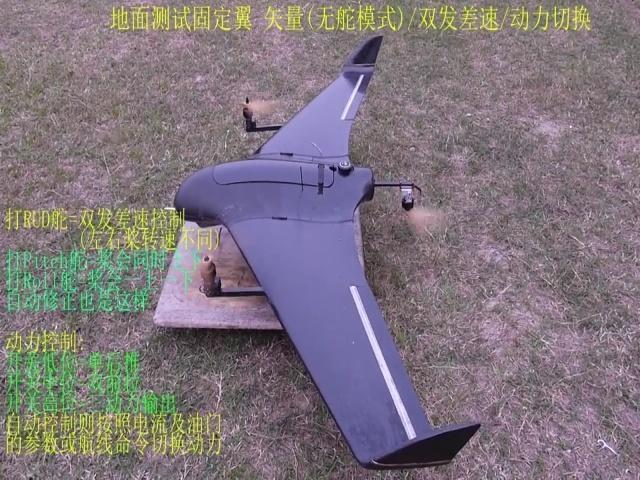Airplane: (165, 34, 482, 470)
